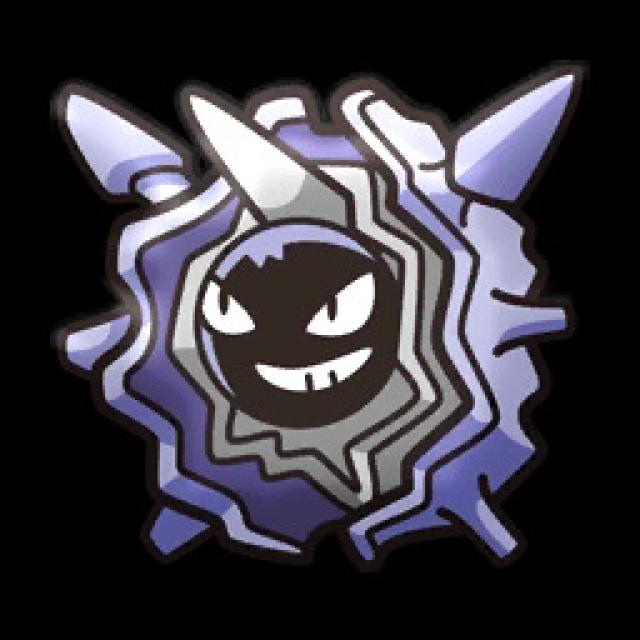Cloyster: (52, 70, 586, 558)
